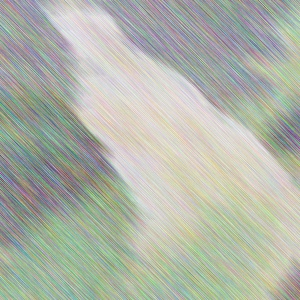Leaf_Blast: (133, 99, 299, 300)
